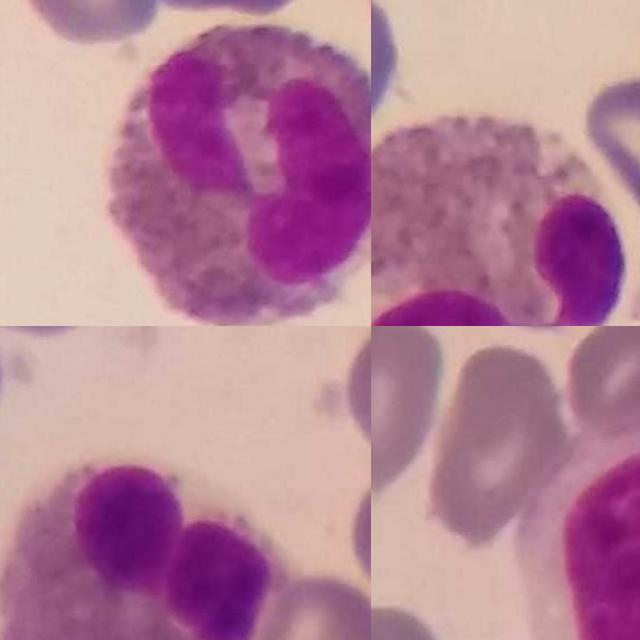Eosinophil: (103, 18, 371, 326), (371, 112, 631, 326), (0, 460, 281, 640)
Monocyte: (520, 400, 640, 640)
